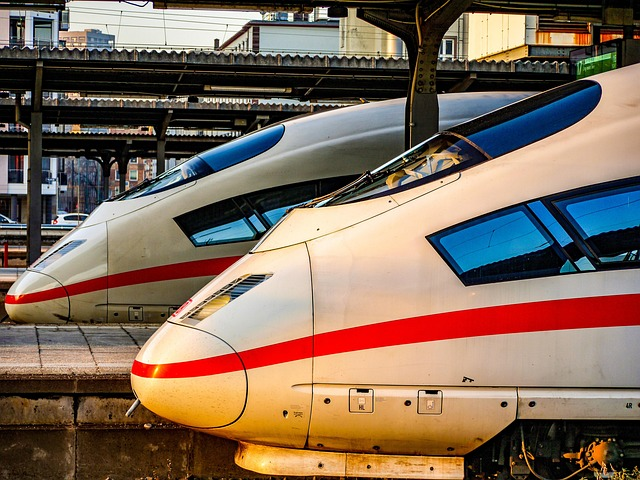train1: (4, 89, 528, 325)
train2: (130, 63, 637, 475)
